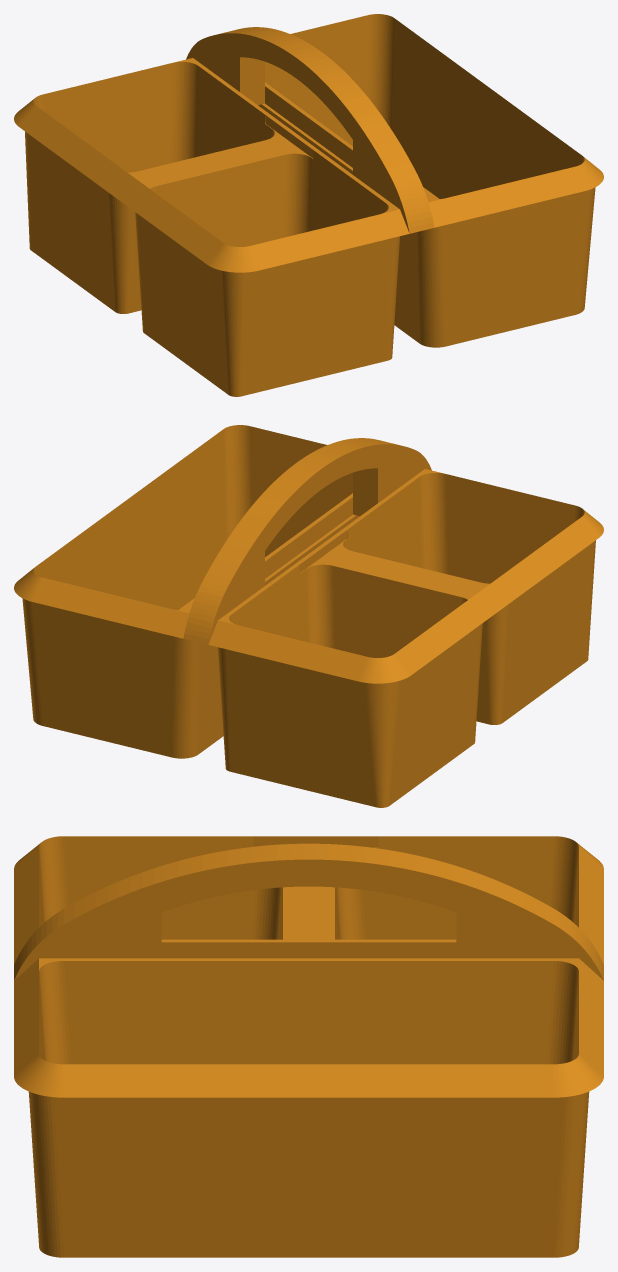
File: Romanoff_Small_Utility_Caddy_cof_orange.dae
3 renders of one model, top to bottom at view 1: azimuth 30°, elevation 25°; view 2: azimuth 150°, elevation 25°; view 3: azimuth 270°, elevation 25°, orthographic. The views are drawn at different scales.
Parts seen in each view (by area): view 1: _c62c69ebbda3019535ef0d7; view 2: _c62c69ebbda3019535ef0d7; view 3: _c62c69ebbda3019535ef0d7.
Boxes of the visible parts, <box> form: _c62c69ebbda3019535ef0d7: <box>14,14,603,396</box>; _c62c69ebbda3019535ef0d7: <box>14,425,603,807</box>; _c62c69ebbda3019535ef0d7: <box>14,836,603,1257</box>.
Bounding box in the file's own units: 0.235 × 0.235 × 0.1283.
